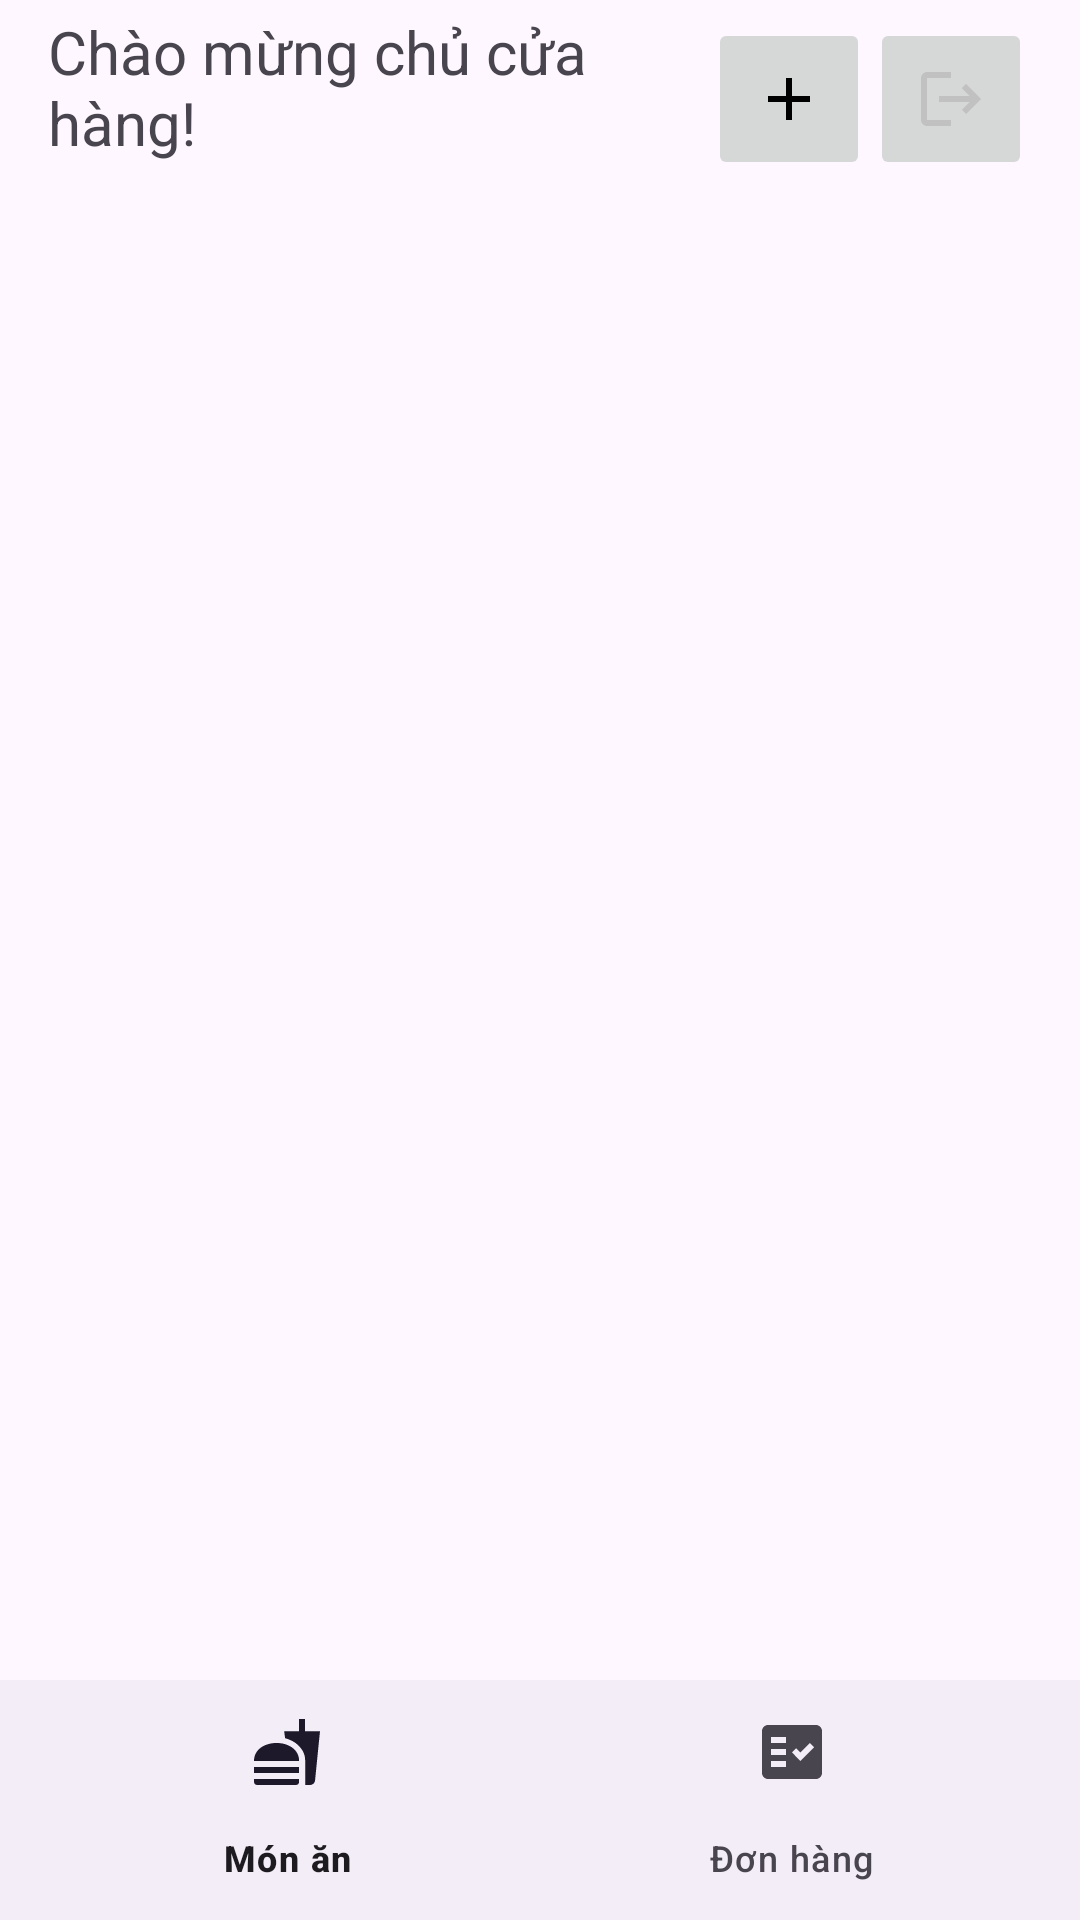

Named icons in this screenshot (1080x1920) and their bounding boxes, (x1, y1, x2, y2):
Add Food: (720, 36, 858, 162)
